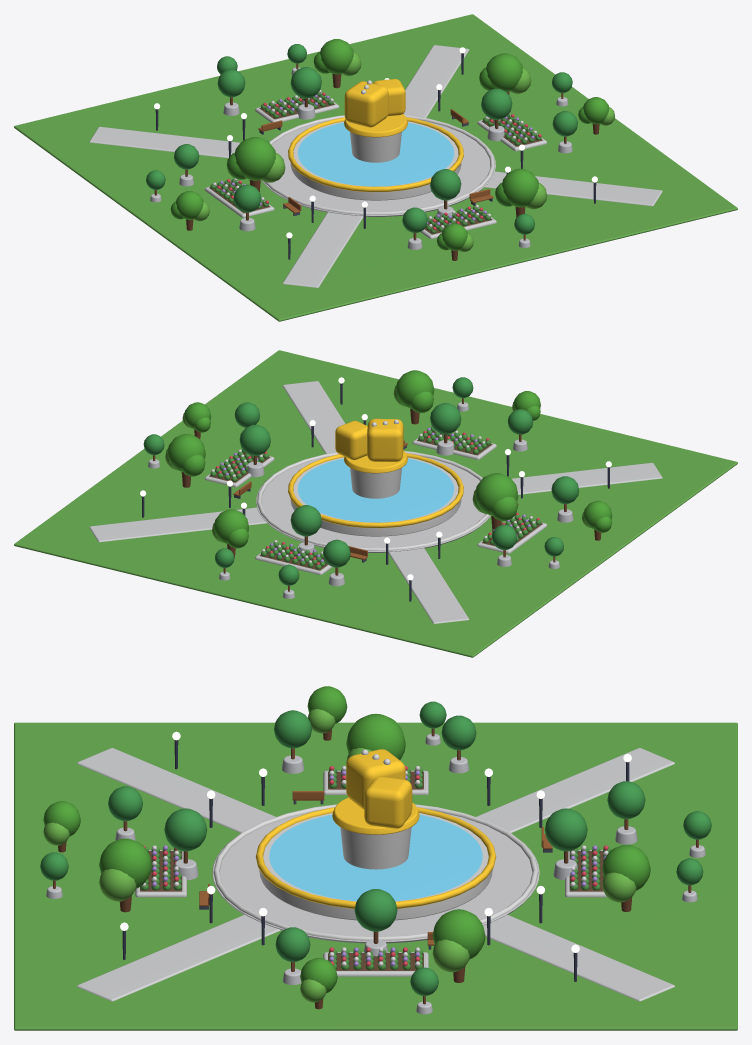
File: centre.glb
3 views of the same model, one above another, from view 1: azimuth 30°, elevation 25°; view 2: azimuth 150°, elevation 25°; view 3: azimuth 270°, elevation 25° (orthographic). The views are drawn at different scales.
Parts seen in each view (by area): view 1: Cube; view 2: Cube; view 3: Cube.
Part boxes in pixels (left/top/right/bottom): Cube: left=14, top=14, right=737, bottom=321; Cube: left=14, top=350, right=737, bottom=657; Cube: left=14, top=686, right=737, bottom=1030.
Size of the model in its own units: 5.9 by 1.06 by 5.9.
